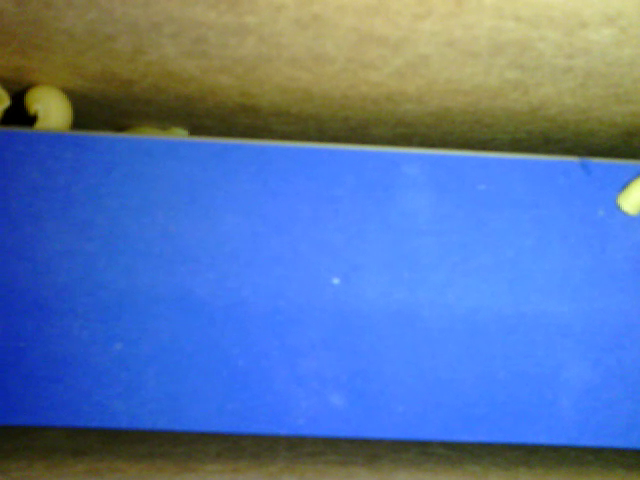shell: (24, 82, 72, 132)
